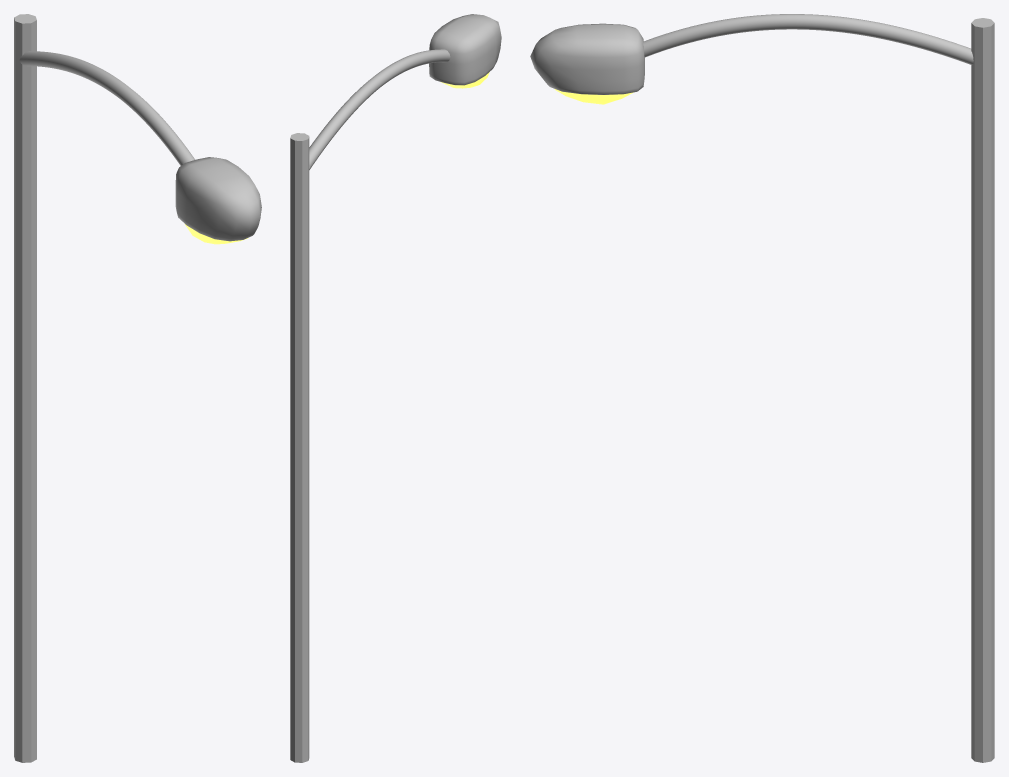
Rendered from Poste_luz.fbx.
The picture shows the model from 3 angles, left to right: view 1: azimuth 30°, elevation 25°; view 2: azimuth 150°, elevation 25°; view 3: azimuth 270°, elevation 25°; orthographic projection. The views are drawn at different scales.
Parts seen in each view (by area): view 1: Poste_luz; view 2: Poste_luz; view 3: Poste_luz.
Part boxes in pixels (x1,y1,x2,y2): Poste_luz: (14, 14, 261, 762); Poste_luz: (290, 14, 501, 762); Poste_luz: (530, 14, 994, 762).
Size of the model in its own units: 13.71 by 172 by 97.5.
